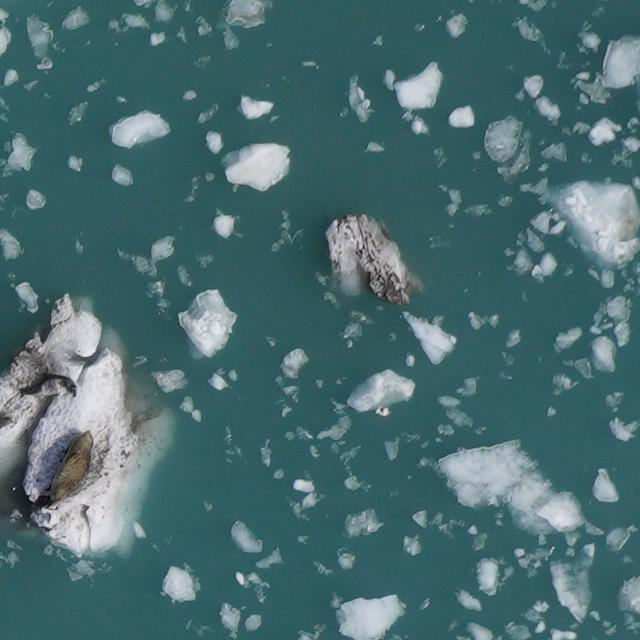seal: (33, 426, 110, 509), (19, 376, 76, 397)
